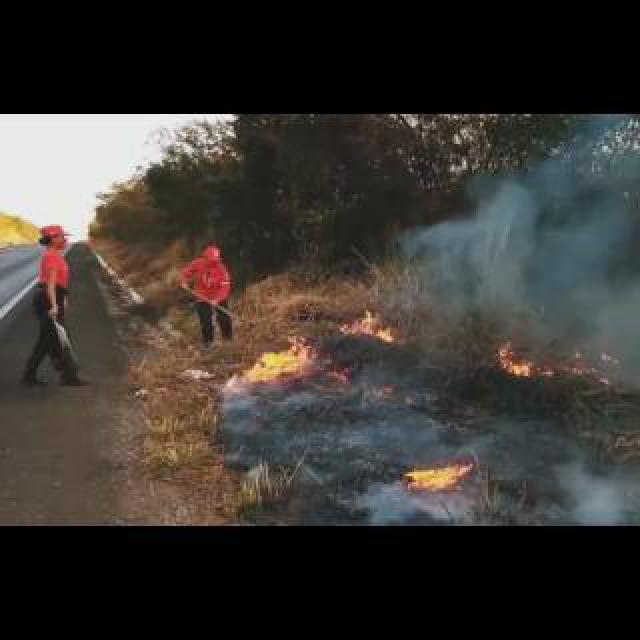Fire: (248, 336, 310, 380), (406, 462, 474, 488), (356, 314, 392, 344), (496, 346, 532, 374)
Smoke: (412, 132, 638, 376), (335, 474, 489, 526), (542, 444, 638, 526)
